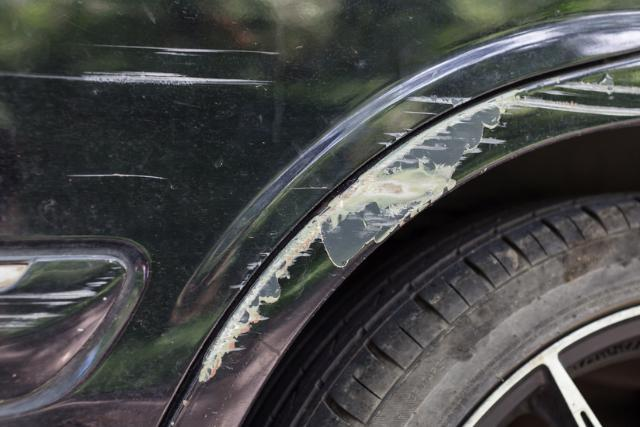Bumper: (0, 28, 307, 313)
Fender: (195, 57, 637, 404)
